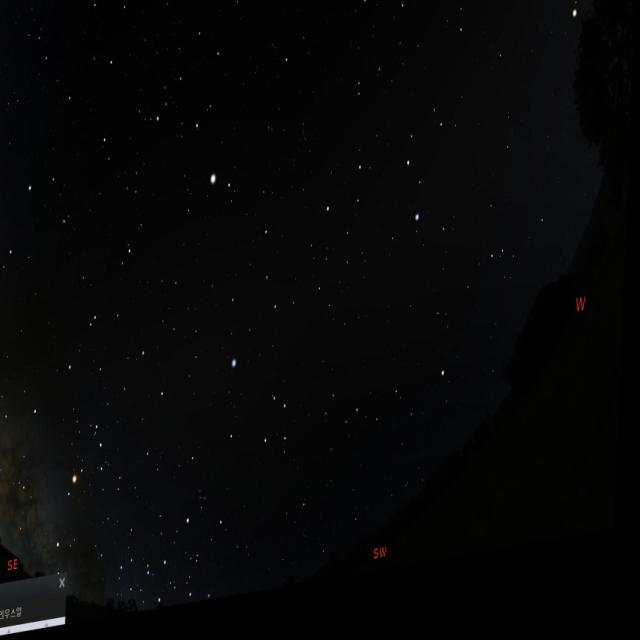bootes: (166, 31, 239, 218)
leo: (325, 107, 464, 273)
scorpius: (36, 409, 121, 548)
